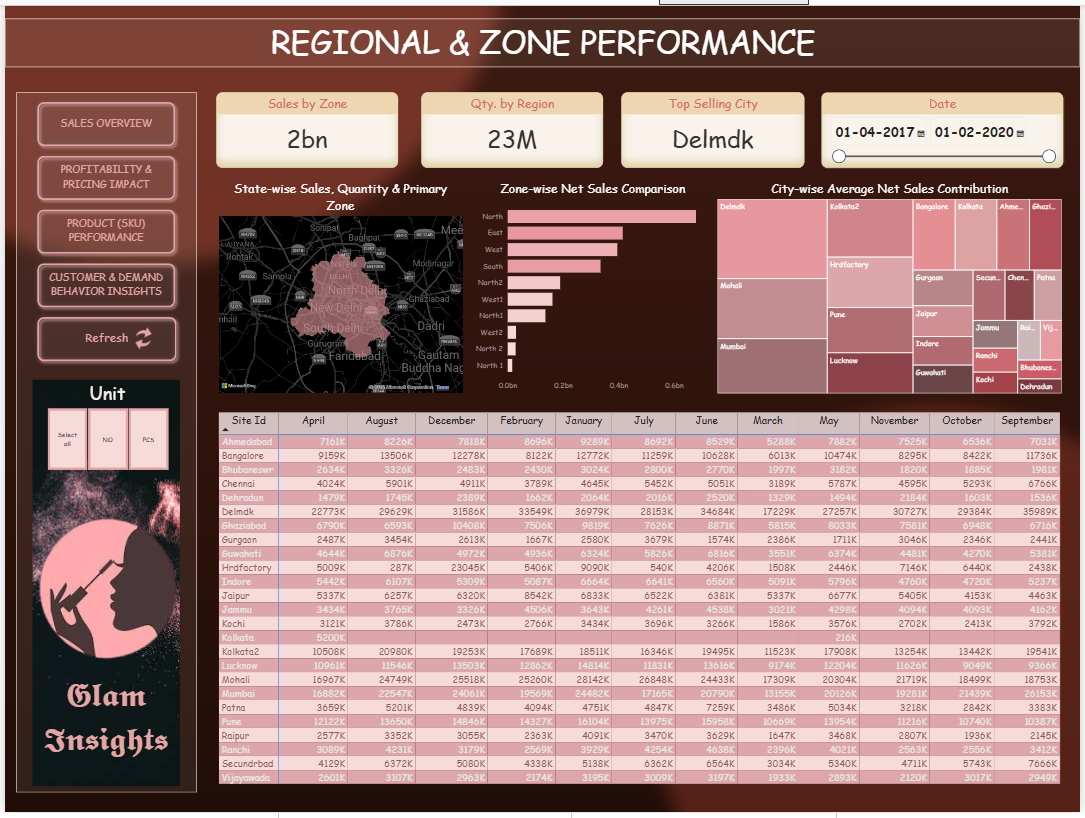

Layout of this report page (visuals, bound fields, positions):
{"tool":"powerbi","page":{"name":"REGIONAL & ZONE PERFORMANCE","canvas":[2000,1500],"ordinal":2},"visuals":[{"type":"card","title":"Sales by Zone","fields":{"Values":["Page 3 — REGIONAL & ZONE PERFORMANCE.Sales by Zone"]},"box":[392.9,159.5,338.1,140.5],"z":0},{"type":"card","title":"Qty. by Region","fields":{"Values":["Page 3 — REGIONAL & ZONE PERFORMANCE.Qty by Region"]},"box":[773.8,159.5,338.1,140.5],"z":1000},{"type":"card","title":"Top Selling City","fields":{"Values":["Page 3 — REGIONAL & ZONE PERFORMANCE.Best Performing State"]},"box":[1147.6,159.5,340.5,140.5],"z":2000},{"type":"filledMap","title":"State-wise Sales, Quantity & Primary Zone","fields":{"Category":["Cosmetic_products_sales (1).State"]},"box":[392.5,322.5,462.5,402.5],"z":3000},{"type":"clusteredBarChart","title":"Zone-wise Net Sales Comparison","fields":{"Category":["Cosmetic_products_sales (1).Zone"],"Y":["Sum(Cosmetic_products_sales (1).Net Sales calculated)"]},"box":[867.5,322.5,452.5,402.5],"z":4000},{"type":"pivotTable","title":"City-wise Average Net Sales Contribution","fields":{"Values":["Page 1 — SALES OVERVIEW (KPI & visuals).Total Sales"],"Rows":["Cosmetic_products_sales (1).Site Id"],"Columns":["Cosmetic_products_sales (1).Month Name"]},"box":[392.9,750,1576.2,714.3],"z":5000},{"type":"treemap","title":"City-wise Average Net Sales Contribution","fields":{"Values":["Avg(Cosmetic_products_sales (1).Net Sales calculated)"],"Group":["Cosmetic_products_sales (1).Site Id"]},"box":[1320,322.5,650,402.5],"z":7000},{"type":"textbox","title":"REGIONAL & ZONE PERFORMANCE","box":[0,22.5,2000,90],"z":8000},{"type":"shape","box":[20.5,161.5,335.9,1302.6],"z":9000},{"type":"actionButton","box":[51.3,169.2,274.4,100],"z":10000},{"type":"actionButton","box":[51.3,369.2,274.4,100],"z":11000},{"type":"actionButton","box":[51.3,269.2,274.4,100],"z":12000},{"type":"actionButton","box":[51.3,469.2,274.4,100],"z":13000},{"type":"image","box":[51.3,694.9,274.4,756.4],"z":14000},{"type":"image","box":[51.3,892.3,274.4,361.5],"z":15000},{"type":"slicer","title":"Unit","fields":{"Values":["Cosmetic_products_sales (1).Unit"]},"box":[53.8,694.9,274.4,174.4],"z":16000},{"type":"textbox","box":[51.3,1235.9,274.4,192.3],"z":17000},{"type":"actionButton","box":[51.3,569.2,276.9,100],"z":18000},{"type":"image","box":[215.4,597.4,82.1,41],"z":19000},{"type":"slicer","title":"Date","fields":{"Values":["Cosmetic_products_sales (1).Date"]},"box":[1519,159.5,450,140.5],"z":20000}]}

Visuals, with their boxes in screenshot pixels (x1, y1, x2, y2), scaled from the page's 2000x1500 canvas onto the 1085x818 screenshot:
"Sales by Zone" card: (left=213, top=87, right=397, bottom=164)
"Qty. by Region" card: (left=420, top=87, right=603, bottom=164)
"Top Selling City" card: (left=623, top=87, right=807, bottom=164)
"State-wise Sales, Quantity & Primary Zone" filledMap: (left=213, top=176, right=464, bottom=395)
"Zone-wise Net Sales Comparison" clusteredBarChart: (left=471, top=176, right=716, bottom=395)
"City-wise Average Net Sales Contribution" pivotTable: (left=213, top=409, right=1068, bottom=799)
"City-wise Average Net Sales Contribution" treemap: (left=716, top=176, right=1069, bottom=395)
"REGIONAL & ZONE PERFORMANCE" textbox: (left=0, top=12, right=1084, bottom=61)
shape: (left=11, top=88, right=193, bottom=798)
actionButton: (left=28, top=92, right=177, bottom=147)
actionButton: (left=28, top=201, right=177, bottom=256)
actionButton: (left=28, top=147, right=177, bottom=201)
actionButton: (left=28, top=256, right=177, bottom=310)
image: (left=28, top=379, right=177, bottom=791)
image: (left=28, top=487, right=177, bottom=684)
"Unit" slicer: (left=29, top=379, right=178, bottom=474)
textbox: (left=28, top=674, right=177, bottom=779)
actionButton: (left=28, top=310, right=178, bottom=365)
image: (left=117, top=326, right=161, bottom=348)
"Date" slicer: (left=824, top=87, right=1068, bottom=164)
